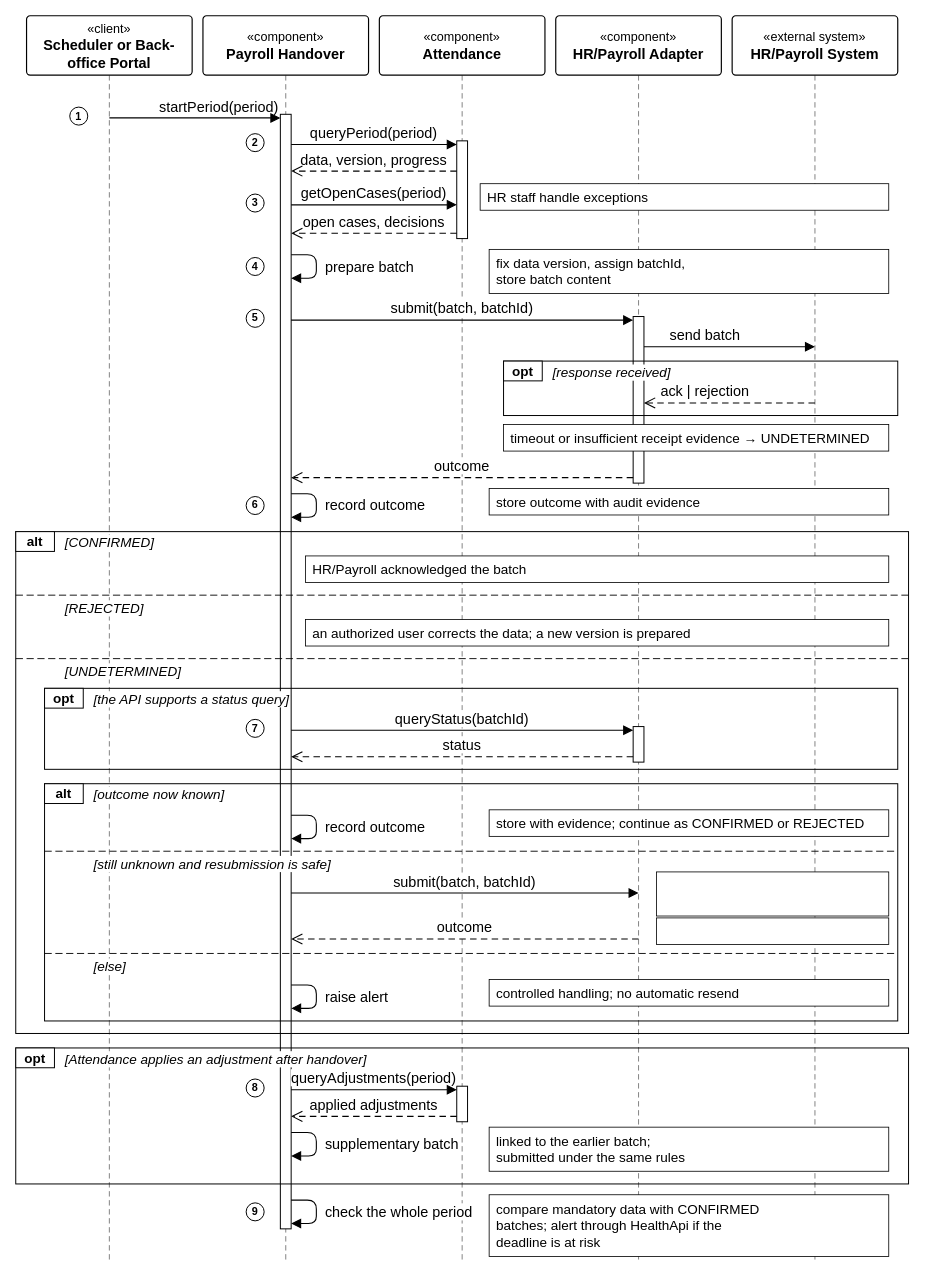
This 926x1277 diagram has some shape labels left out. The centre of each missing label's shape, as x and y in pixels:
"contract prevents duplicates or evidence shows resending is safe" belongs at (x=772, y=893).
"recorded as in steps 5 and 6" belongs at (x=772, y=930).
